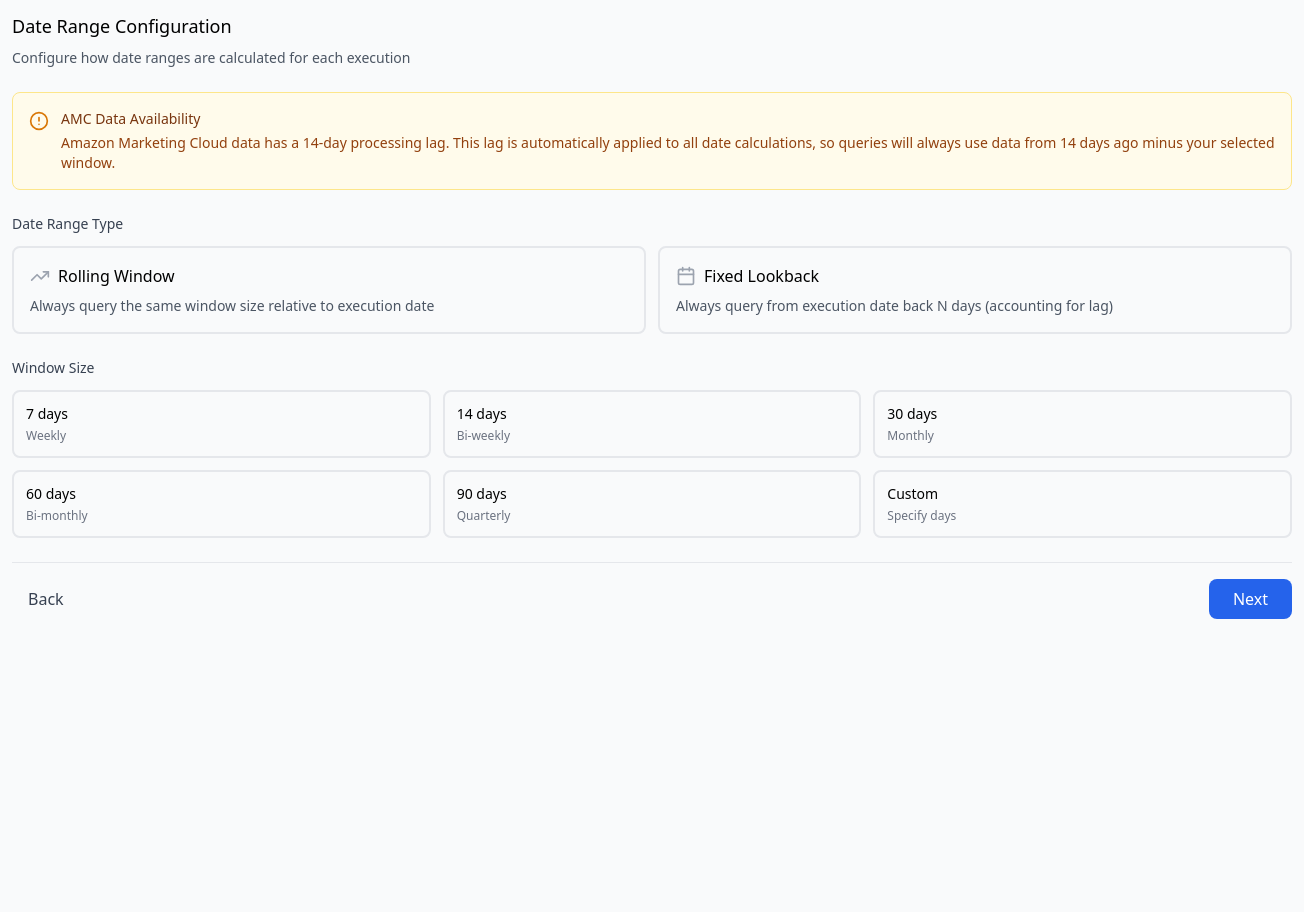
Test: DateRangeStep › Validation › should require a window size to be selected
Click the button "Next" at (1250,599), box left=1209, top=579, right=1292, bottom=619
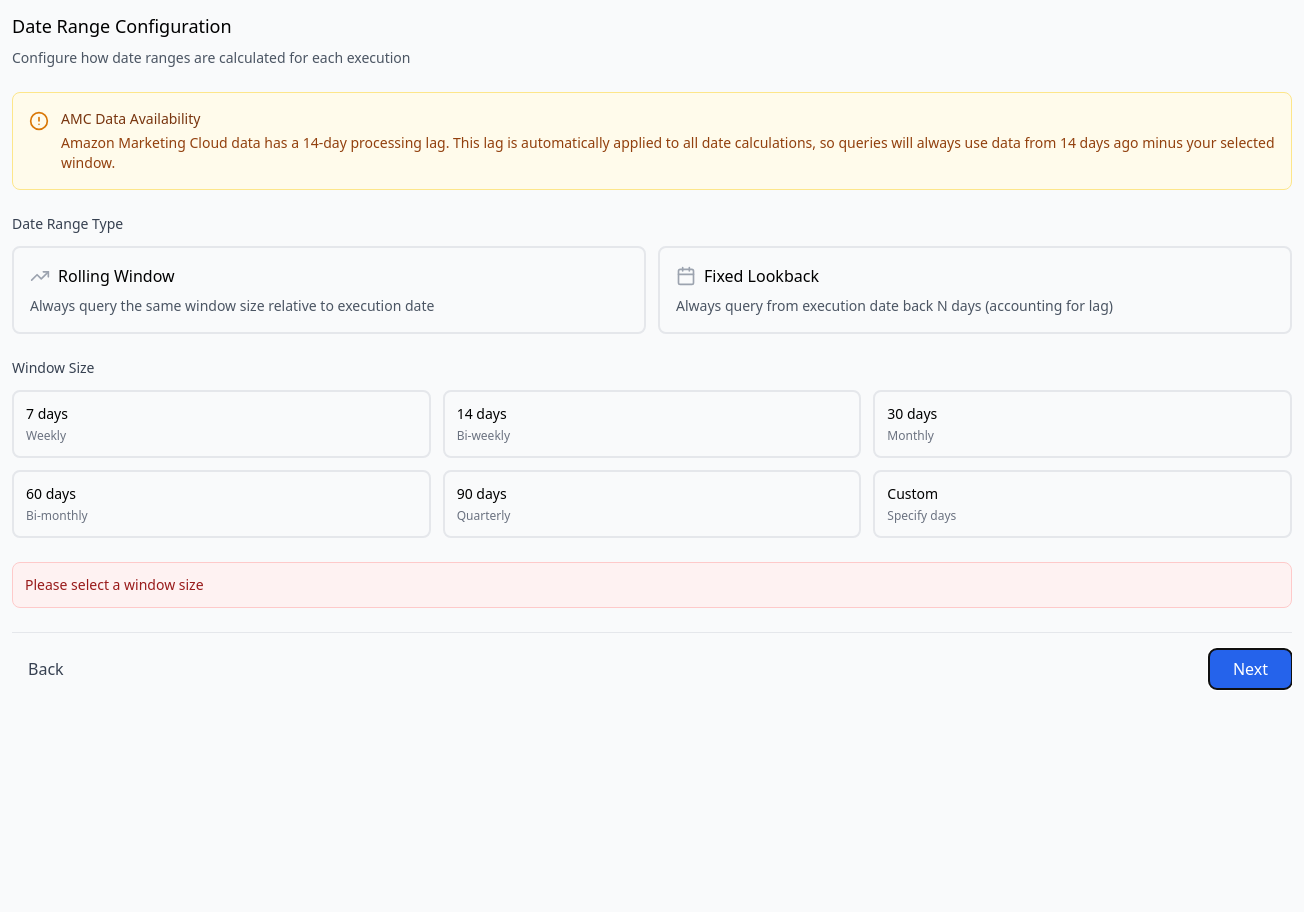
Now the text "Please select a window size" is shown, box left=25, top=575, right=204, bottom=594
